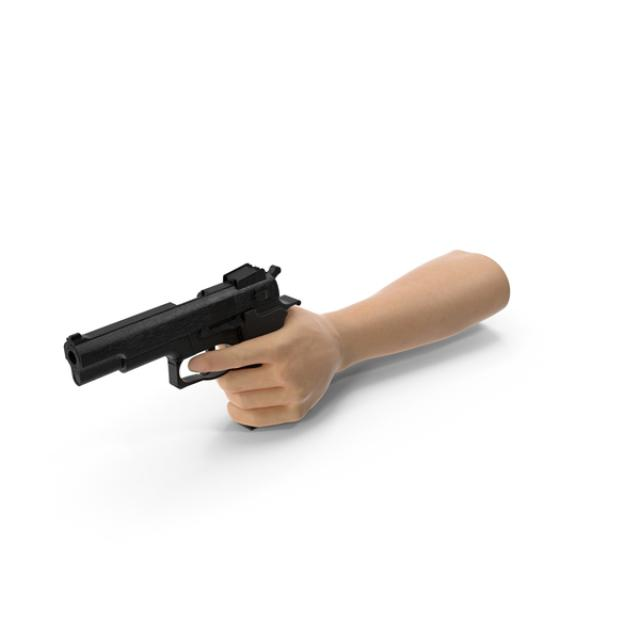HandGun: (63, 263, 302, 390)
